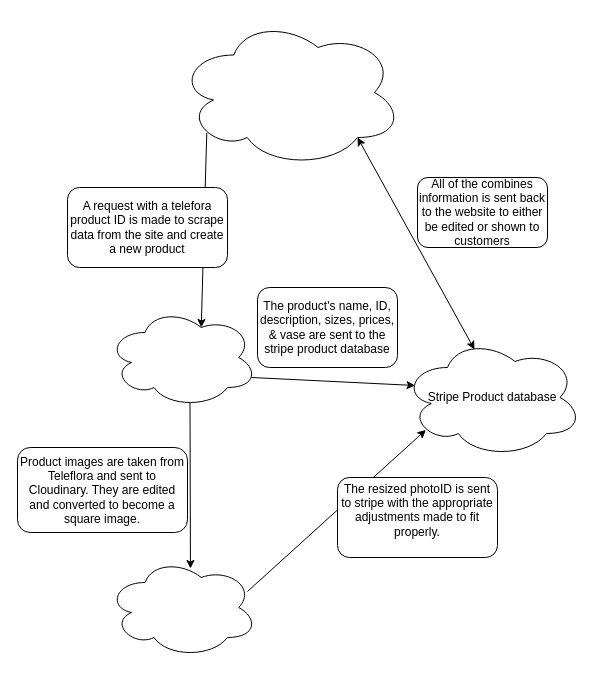
The diagram is 600 pixels wide and 675 high, and some of its shapes have lost their labels. The shapes that lost their labels are listed below. From the top down, each one's box as (x1, y1, x2, y2) in pixels, then its label:
(176, 16, 402, 168): Petal Patch Website
(106, 306, 258, 408): Teleflora Website
(106, 556, 258, 658): Cloudinary
